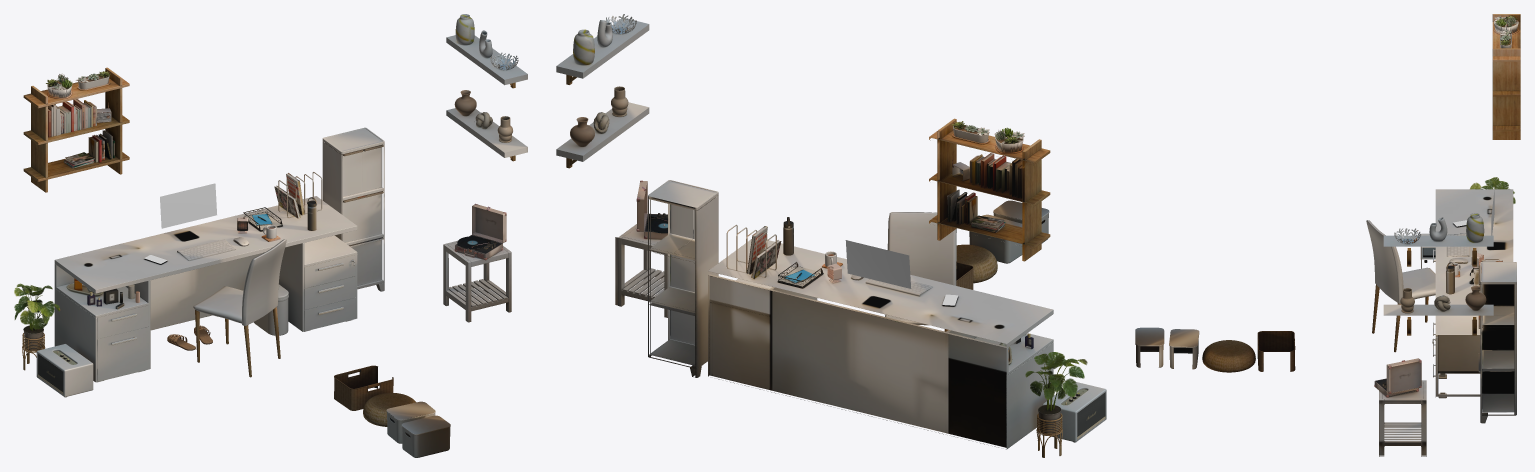
File: Light_First.glb
3 views of the same model, side by side, from view 1: azimuth 30°, elevation 25°; view 2: azimuth 150°, elevation 25°; view 3: azimuth 270°, elevation 25° (orthographic). The views are drawn at different scales.
Parts seen in each view (by area): view 1: Light_First_Baked, Desktop_Screen; view 2: Light_First_Baked, Desktop_Screen; view 3: Light_First_Baked.
Boxes of the visible parts, x1,y1,x2,y2 form: Light_First_Baked: [14, 14, 527, 457]; Desktop_Screen: [160, 183, 216, 228]; Light_First_Baked: [556, 14, 1106, 457]; Desktop_Screen: [845, 240, 911, 288]; Light_First_Baked: [1135, 14, 1520, 456].
Size of the model in its own units: 3.69 by 2.14 by 2.83.
Materials: 2 (1 with a texture image).
